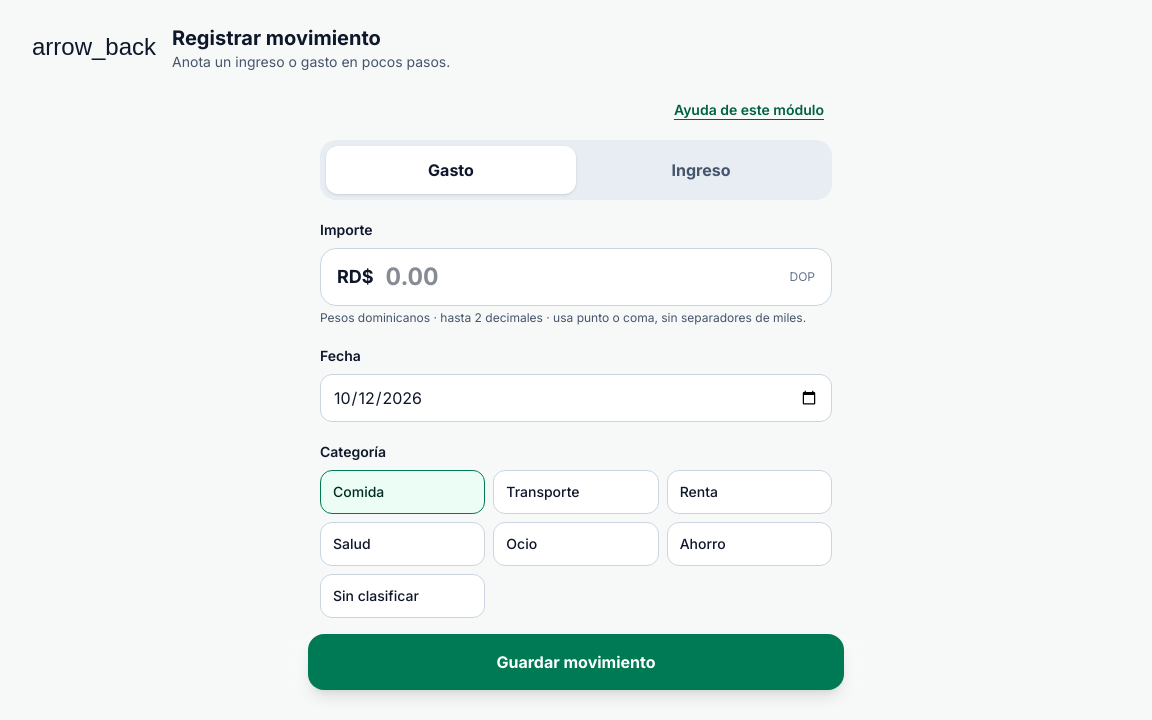
Test: QuickAddTransaction › registers a regular expense and confirms only after the callable resolves
Type "12,34" into the field labelled "Importe". click: (582, 277)
box: [386,261,778,293]
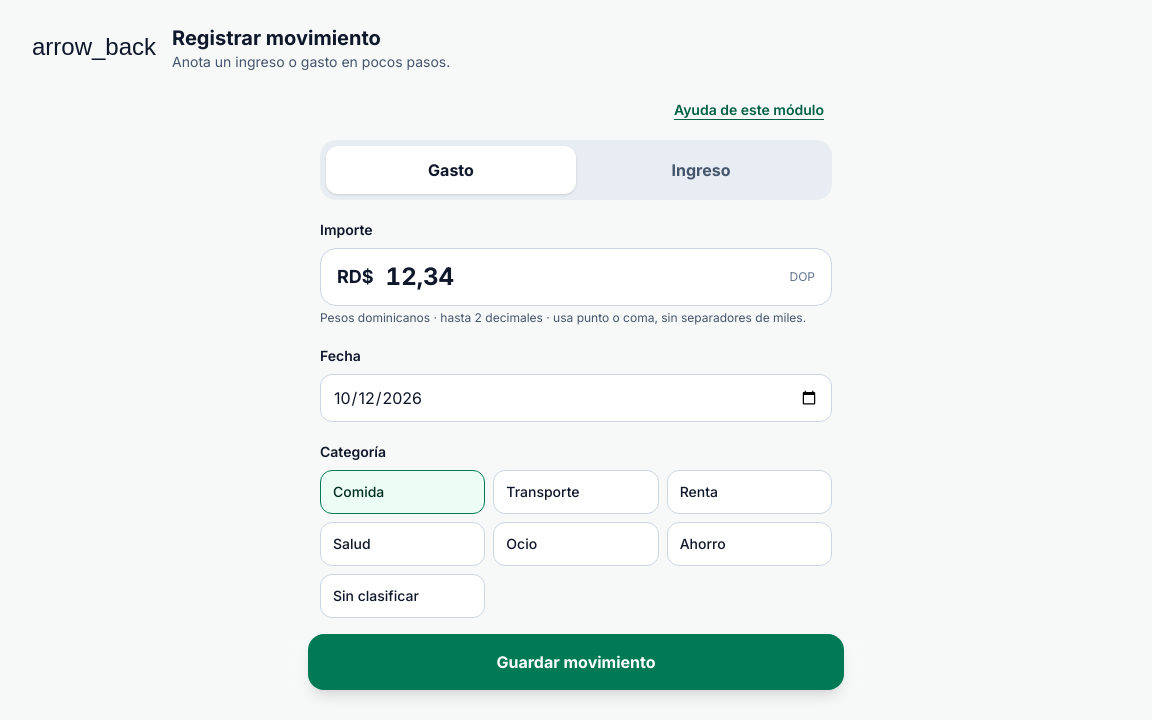
Click the button "Guardar movimiento". click: (576, 662)
box: [308,634,844,690]
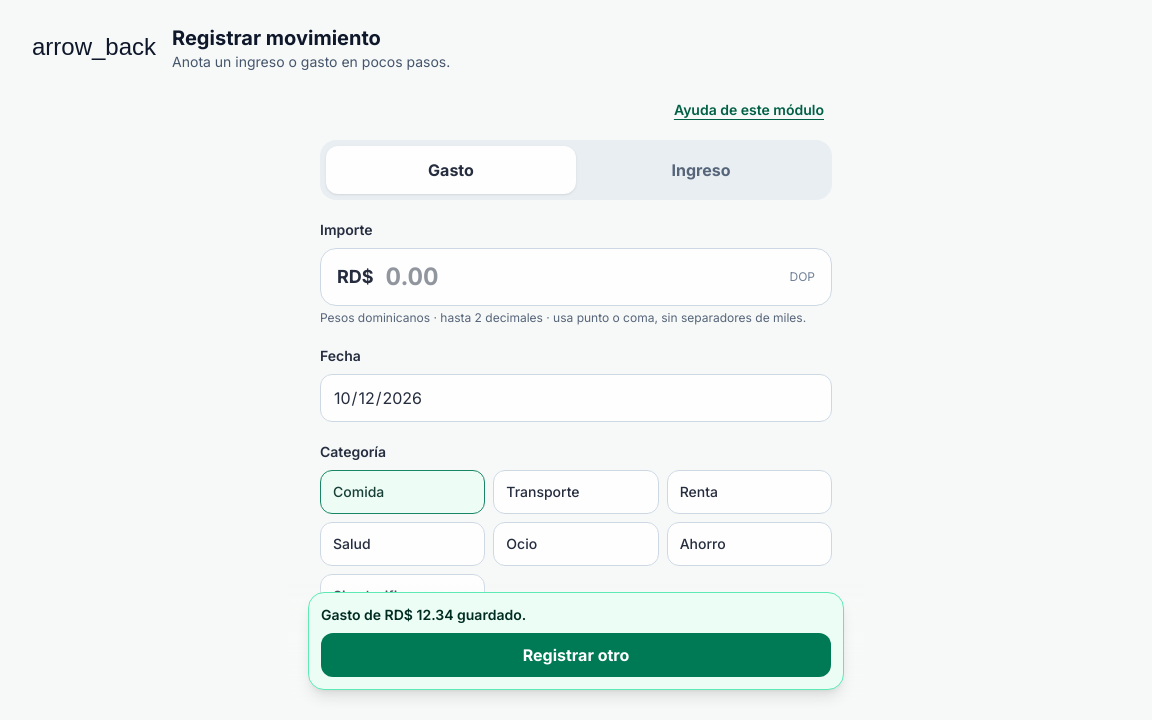
Result: the text "Gasto de RD$ 12.34 guardado." is shown at [321,606,526,623]
Result: the button "Registrar otro" is shown at [321,633,831,677]
